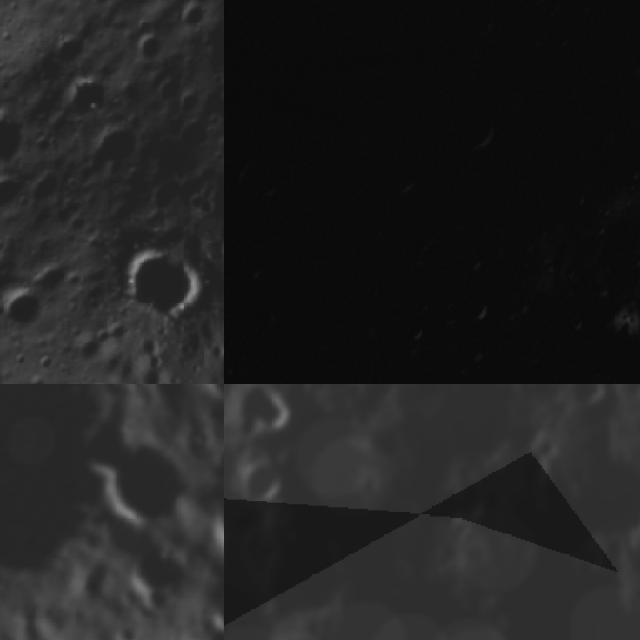crater: (0, 384, 147, 591), (100, 445, 196, 527), (354, 64, 440, 141), (438, 90, 516, 169), (104, 235, 177, 318), (368, 136, 446, 210), (46, 64, 120, 135), (80, 110, 146, 178), (76, 415, 135, 477), (0, 278, 54, 344), (84, 506, 150, 560), (120, 544, 186, 594), (234, 156, 289, 213), (238, 384, 301, 430), (26, 255, 80, 308), (247, 281, 300, 333), (0, 104, 34, 181), (592, 284, 638, 339), (320, 173, 367, 226), (48, 25, 96, 74), (241, 459, 290, 506), (289, 318, 337, 364), (0, 162, 32, 225), (459, 0, 503, 45), (560, 169, 603, 214), (452, 289, 497, 331), (168, 0, 213, 40), (132, 28, 172, 71), (553, 384, 614, 411), (202, 498, 224, 564), (514, 19, 553, 55), (568, 38, 604, 74), (398, 312, 434, 348), (455, 335, 492, 370), (458, 245, 492, 280), (0, 257, 16, 328), (578, 72, 612, 104), (612, 42, 640, 79), (146, 384, 192, 406), (316, 237, 344, 269), (459, 61, 488, 90), (560, 310, 589, 336), (383, 0, 422, 16), (208, 599, 224, 634), (636, 131, 640, 162)
